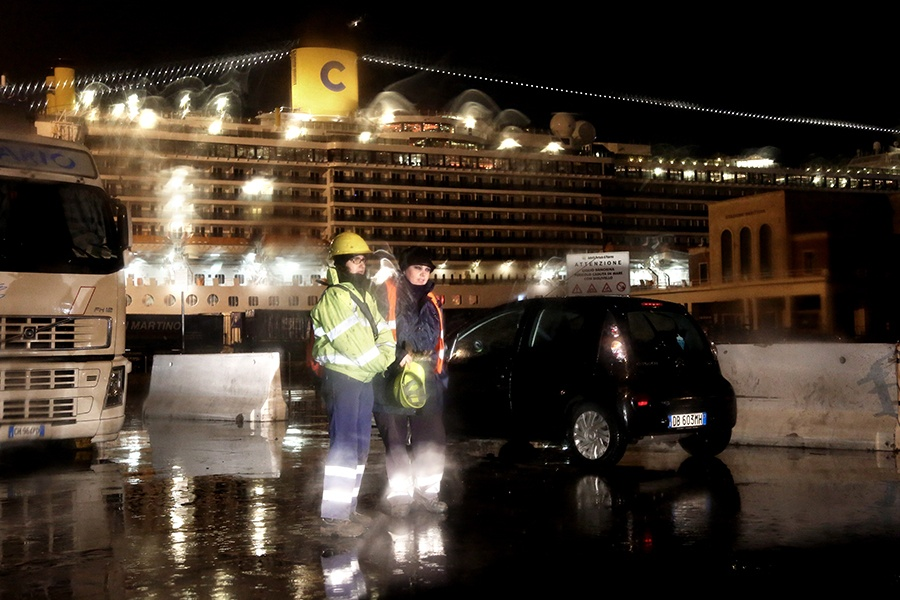none: (399, 246, 433, 288)
yellow: (326, 232, 370, 281)
